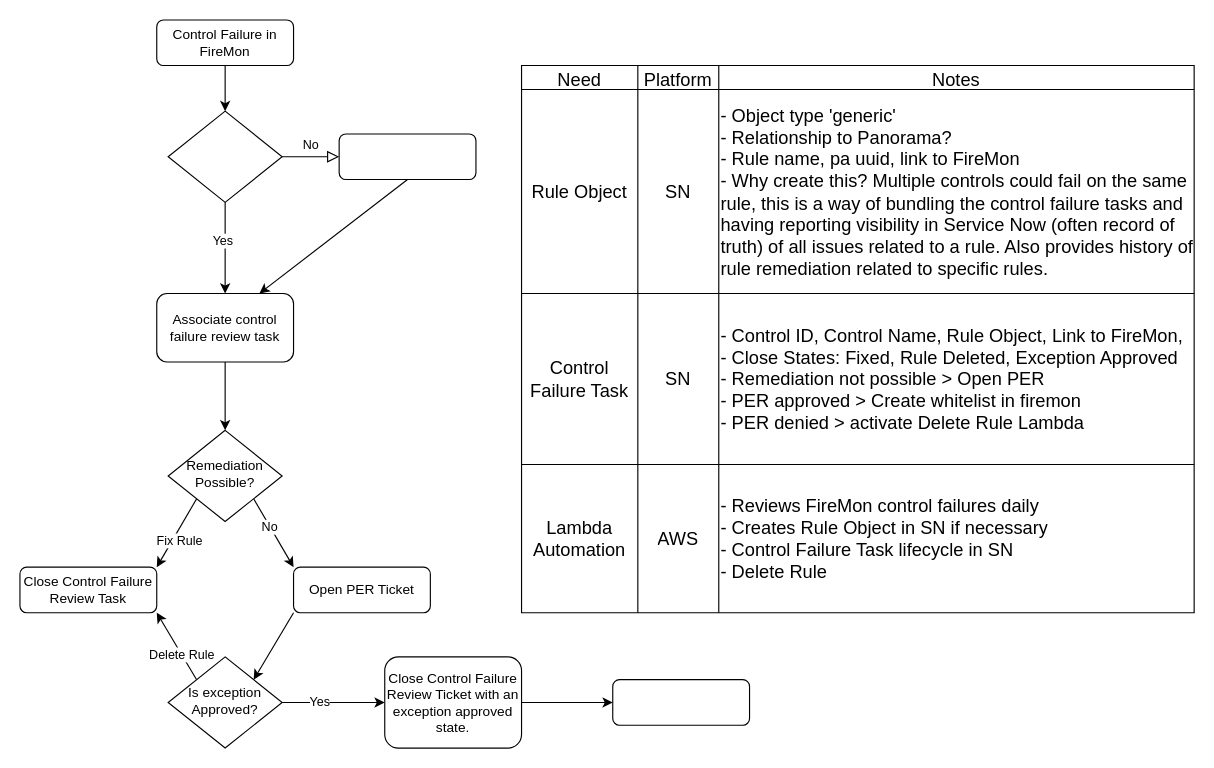
This 1214x768 diagram has some shape labels left out. The centre of each missing label's shape, as x and y in pixels:
"Check SN for rule existence?" goes at point (224, 156).
"Create Rule Control Whitelist in FireMon" goes at point (681, 702).
"Create Rule Object" goes at point (407, 156).
